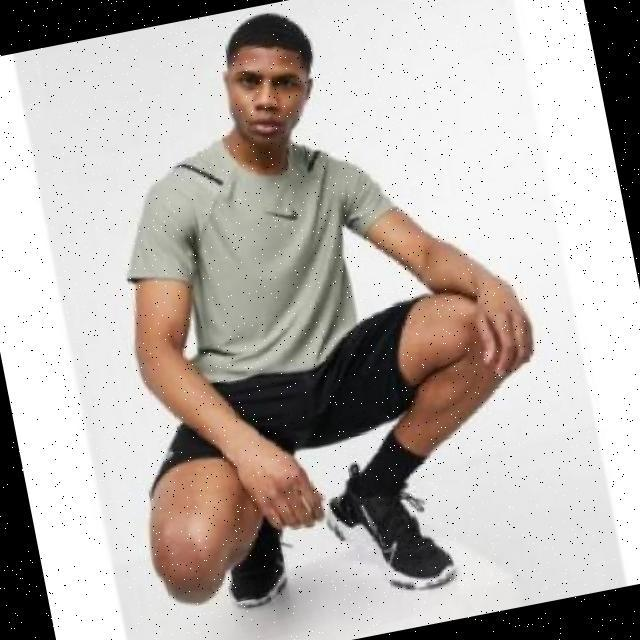Nike: (267, 204, 300, 224)
